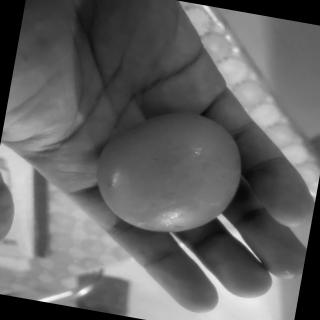Telur: (86, 96, 253, 247)
